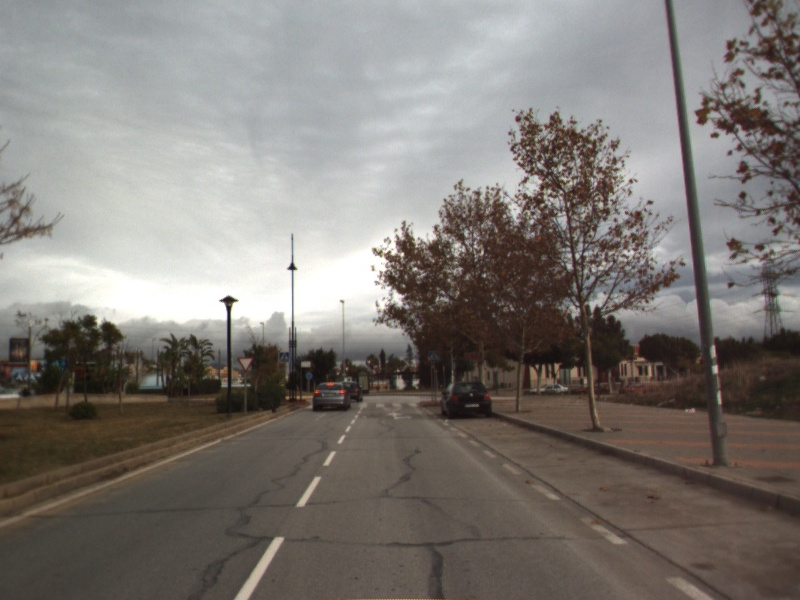STRAIGHT_RIGHT: (384, 409, 415, 422)
